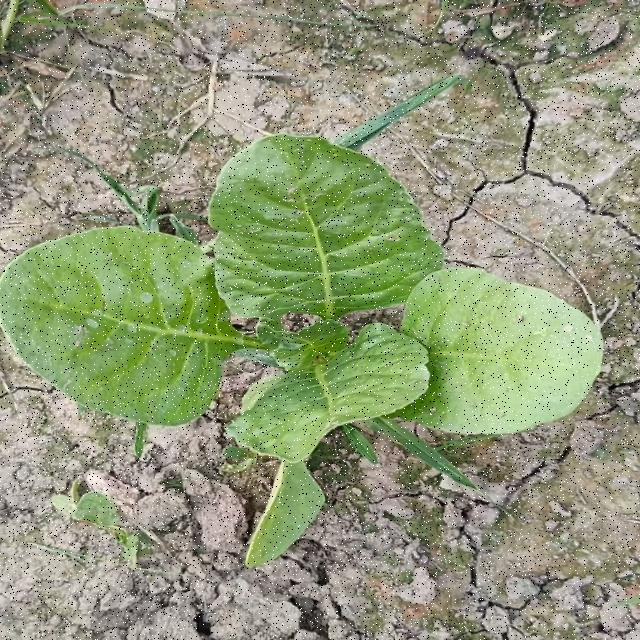plant: (2, 78, 601, 566)
